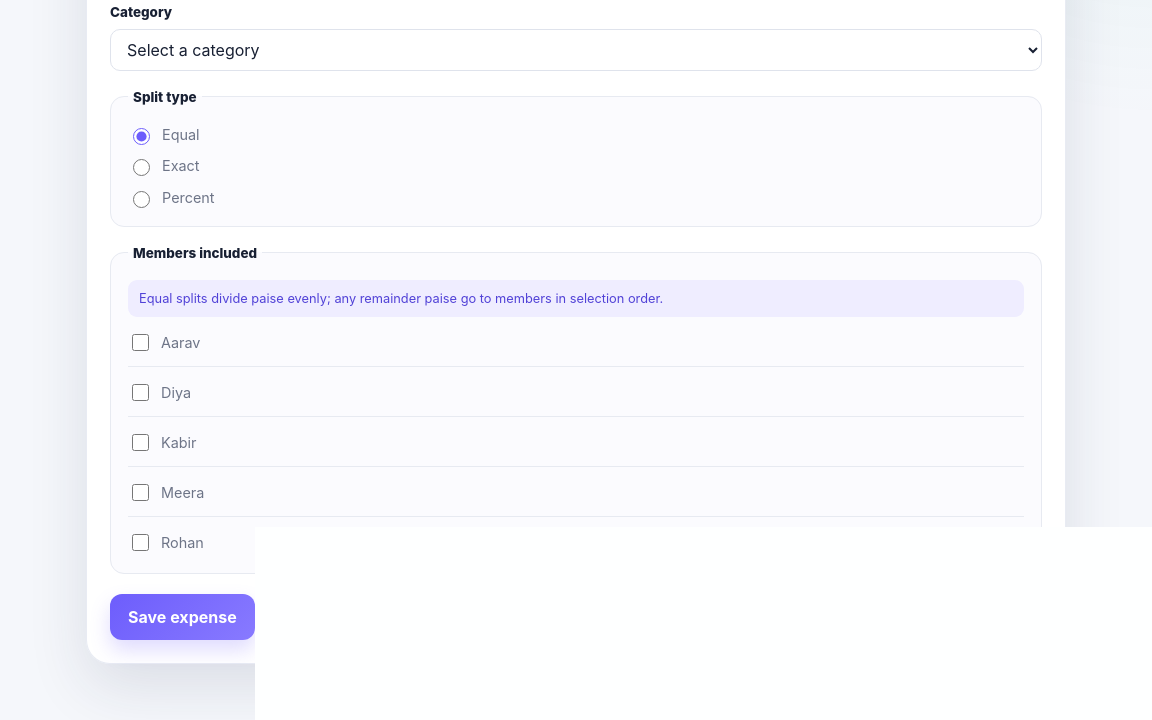
Scenario: AddExpensePage › shows errors and saves nothing for an invalid form
(page scrolled)
Click the button "Save expense".
click(182, 617)  # box [110,594,255,640]
(page scrolled)
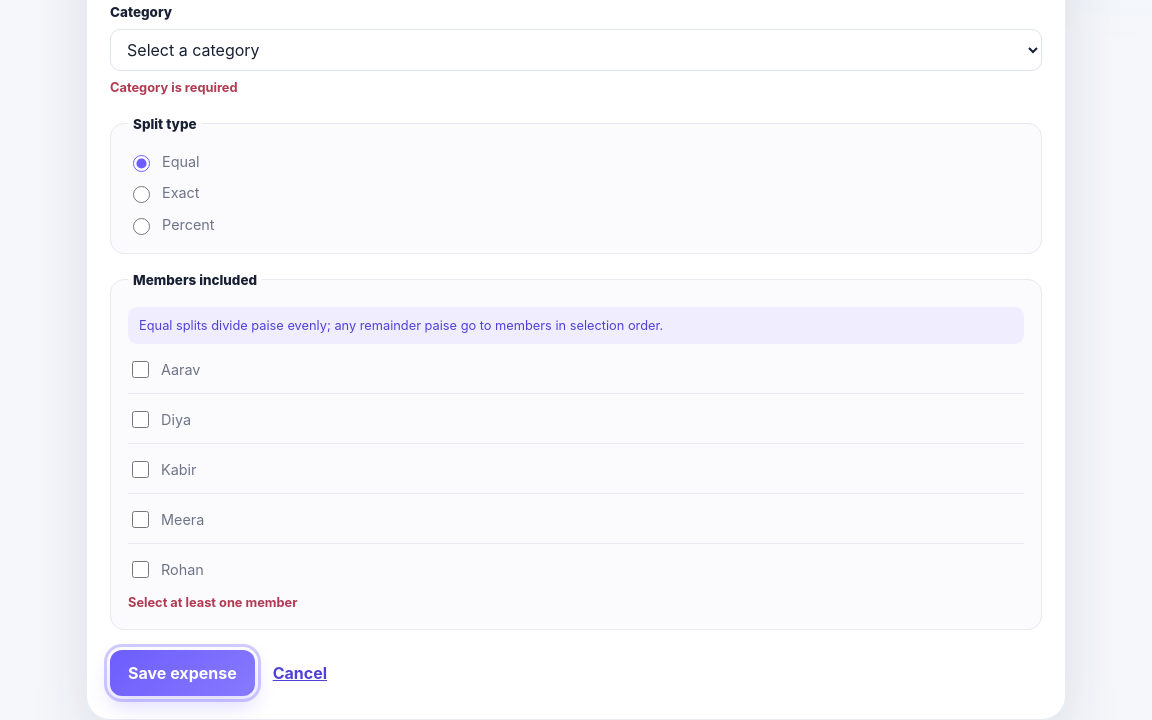
Check: the text "Category is required" is shown, box [110,80,238,95]
Check: the text "Select at least one member" is shown, box [128,595,297,610]
